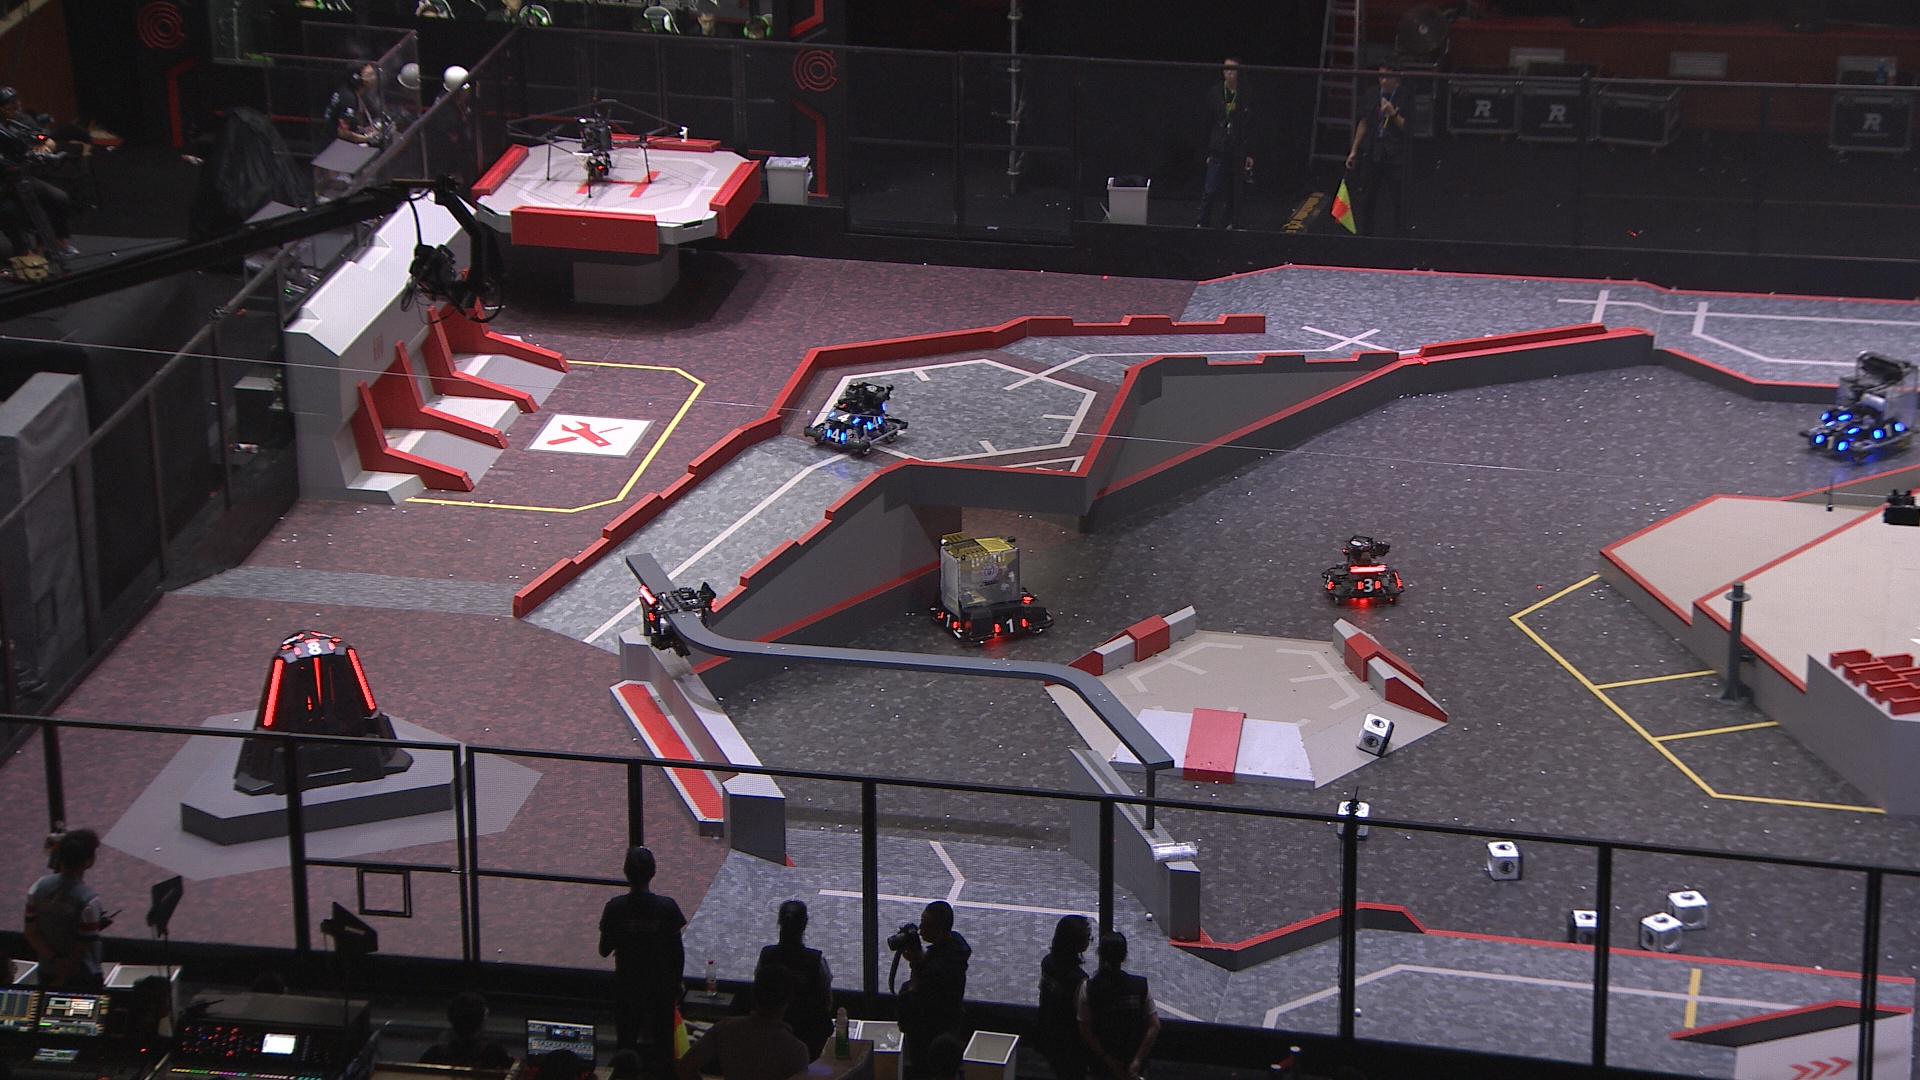armor: (257, 657, 286, 728), (345, 646, 376, 713), (992, 613, 1031, 637), (290, 640, 338, 659), (1869, 419, 1903, 442), (1815, 431, 1849, 454), (311, 654, 324, 708), (1822, 418, 1859, 436), (825, 405, 860, 425), (1354, 574, 1381, 595), (823, 425, 851, 443), (313, 628, 340, 645), (936, 611, 959, 632), (864, 413, 884, 436), (277, 632, 299, 651), (638, 597, 655, 622), (1013, 584, 1033, 604), (1319, 570, 1335, 593)
base: (231, 622, 415, 800)
car: (927, 527, 1054, 651), (1797, 351, 1920, 469), (802, 376, 911, 458), (1315, 534, 1408, 615)
watcher: (636, 576, 717, 657)
